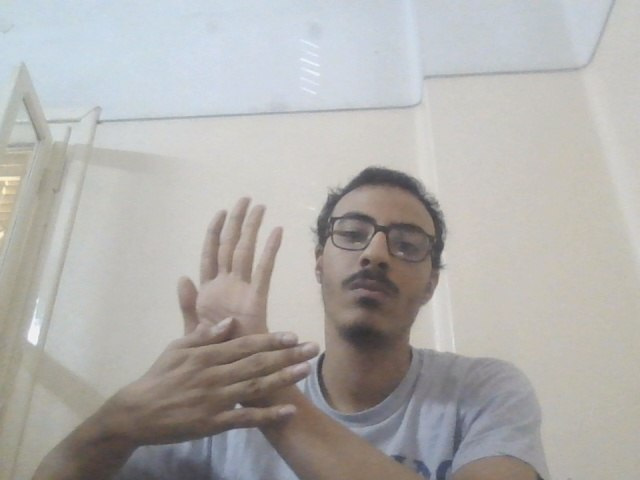Movie: (106, 195, 321, 451)
